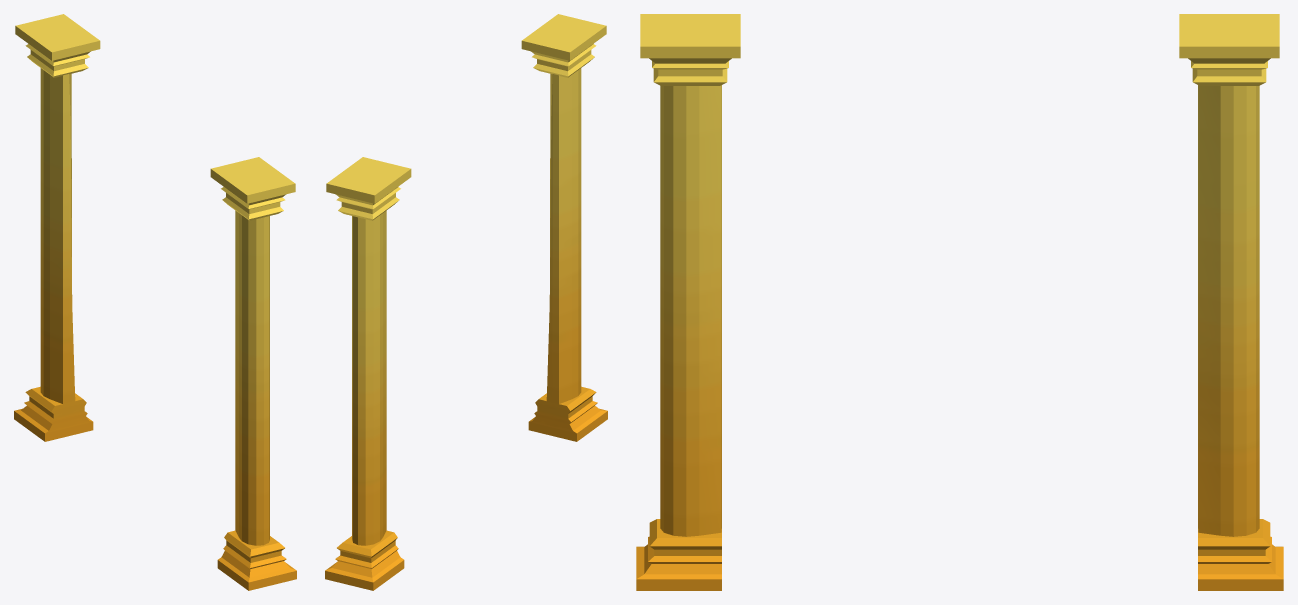
File: heaven1.fbx
3 renders of one model, left to right at view 1: azimuth 30°, elevation 25°; view 2: azimuth 150°, elevation 25°; view 3: azimuth 270°, elevation 25°, orthographic. The views are drawn at different scales.
Visible parts, largest first — view 1: leftgate_105_0; view 2: leftgate_105_0; view 3: leftgate_105_0.
Part boxes in pixels (x1=…): leftgate_105_0: x1=14, y1=14, x2=296, y2=590; leftgate_105_0: x1=325, y1=14, x2=607, y2=590; leftgate_105_0: x1=636, y1=14, x2=1283, y2=590.
Bounding box in the file's own units: 1.32 × 10.31 × 11.12.
